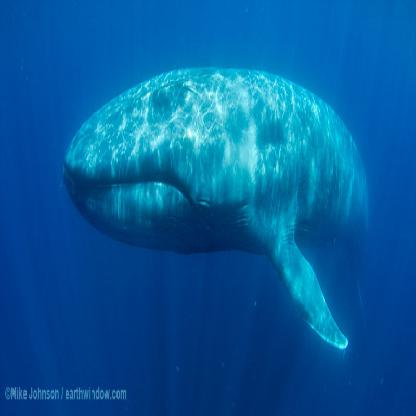blue_whale: (57, 32, 382, 377)
